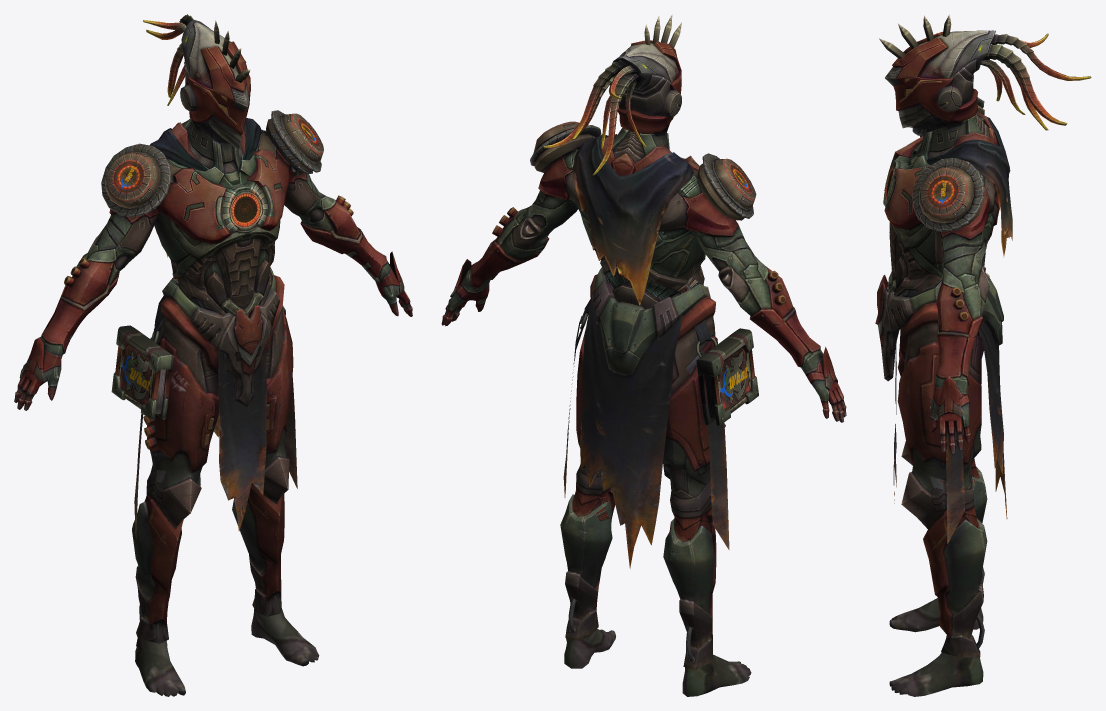
The model's file is Male_War.obj.
The picture shows the model from 3 angles, left to right: view 1: azimuth 30°, elevation 25°; view 2: azimuth 150°, elevation 25°; view 3: azimuth 270°, elevation 25°; orthographic projection.
Visible parts, largest first — view 1: male_lobby_bottom_cos_war.002, male_lobby_bottom_cos_war.003, male_lobby_bottom_cos_war.004, male_lobby_bottom_cos_war.001; view 2: male_lobby_bottom_cos_war.002, male_lobby_bottom_cos_war.003, male_lobby_bottom_cos_war.004, male_lobby_bottom_cos_war.001; view 3: male_lobby_bottom_cos_war.003, male_lobby_bottom_cos_war.002, male_lobby_bottom_cos_war.004, male_lobby_bottom_cos_war.001.
Part boxes in pixels (bbox=[...]): male_lobby_bottom_cos_war.002: bbox=[111, 267, 297, 643]; male_lobby_bottom_cos_war.003: bbox=[14, 110, 412, 410]; male_lobby_bottom_cos_war.004: bbox=[143, 14, 250, 149]; male_lobby_bottom_cos_war.001: bbox=[135, 608, 319, 696]; male_lobby_bottom_cos_war.002: bbox=[560, 267, 758, 669]; male_lobby_bottom_cos_war.003: bbox=[441, 121, 846, 422]; male_lobby_bottom_cos_war.004: bbox=[544, 14, 681, 175]; male_lobby_bottom_cos_war.001: bbox=[564, 629, 751, 696]; male_lobby_bottom_cos_war.003: bbox=[883, 97, 1012, 454]; male_lobby_bottom_cos_war.002: bbox=[875, 275, 1007, 657]; male_lobby_bottom_cos_war.004: bbox=[879, 14, 1091, 130]; male_lobby_bottom_cos_war.001: bbox=[889, 598, 983, 696].
Size of the model in its own units: 3.27 by 5.1 by 1.55.
4 materials, 4 textured.
